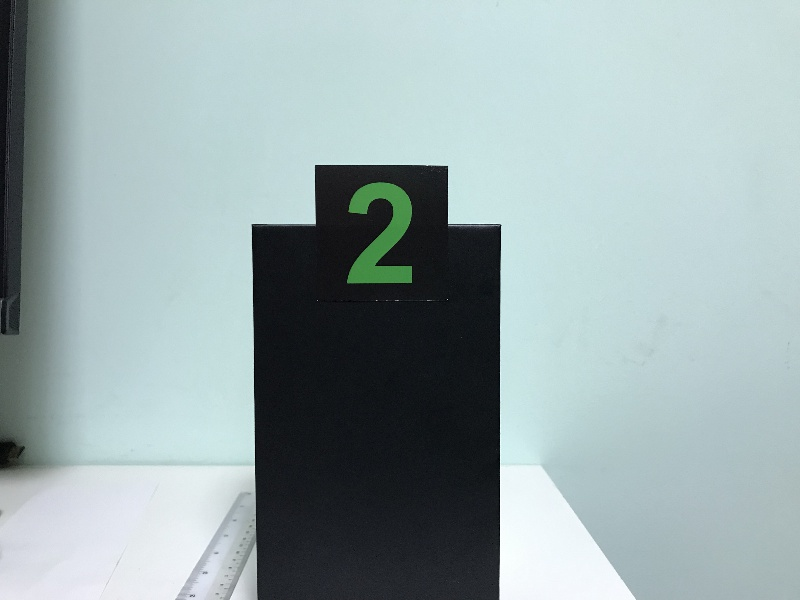Two-7: (319, 166, 445, 300)
